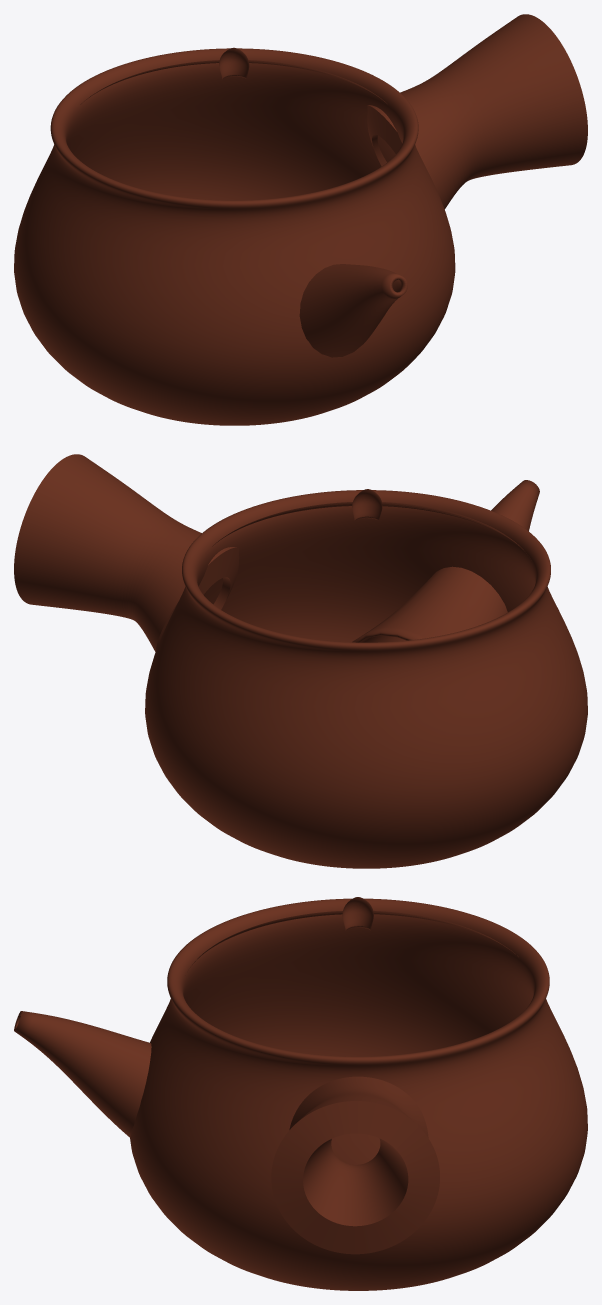
Rendered from kyuusu (1).fbx.
The picture shows the model from 3 angles, top to bottom: view 1: azimuth 30°, elevation 25°; view 2: azimuth 150°, elevation 25°; view 3: azimuth 270°, elevation 25°; orthographic projection. The views are drawn at different scales.
Visible parts, largest first — view 1: Vert.001, 円.001, ベジエカーブ, 円; view 2: Vert.001, 円.001, ベジエカーブ, 円; view 3: Vert.001, 円.001, ベジエカーブ, 円.
Part boxes in pixels (x1,y1,x2,y2): Vert.001: (14, 48, 455, 425); 円.001: (367, 14, 587, 209); ベジエカーブ: (299, 264, 407, 357); 円: (80, 47, 386, 104); Vert.001: (145, 490, 587, 868); 円.001: (14, 454, 239, 651); ベジエカーブ: (352, 480, 539, 642); 円: (212, 489, 526, 553); Vert.001: (130, 898, 587, 1290); 円.001: (271, 1076, 439, 1254); ベジエカーブ: (14, 1011, 151, 1137); 円: (190, 897, 518, 967).
Size of the model in its own units: 714 by 452 by 667.
